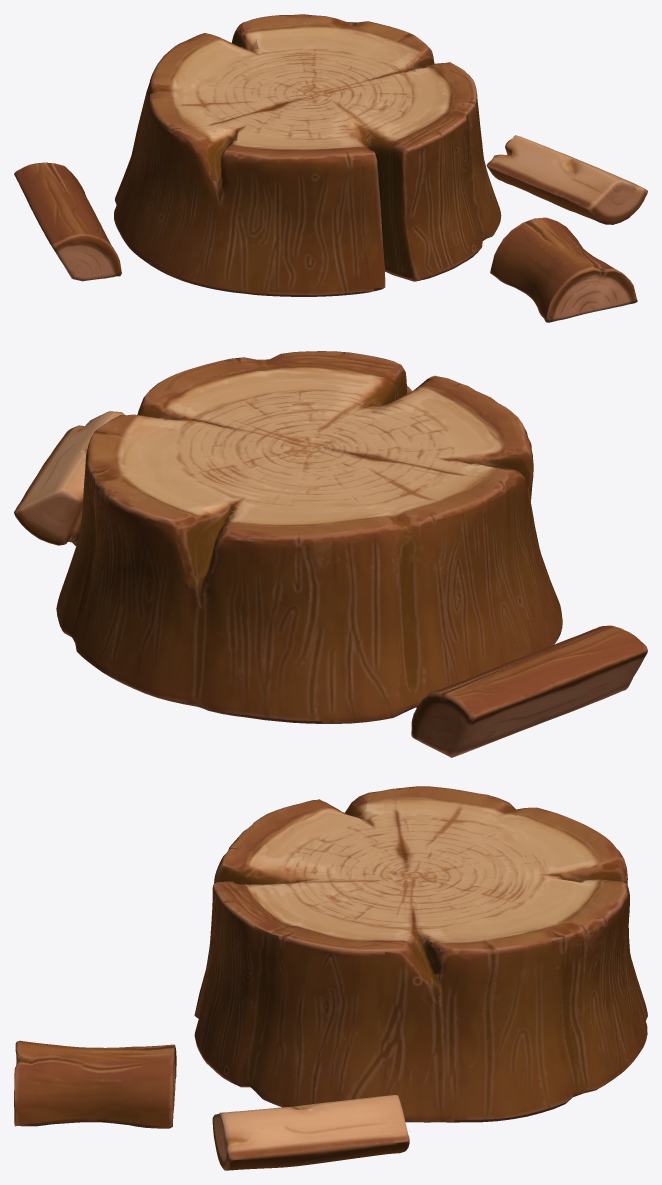
Rendered from Stump.fbx.
The picture shows the model from 3 angles, top to bottom: view 1: azimuth 30°, elevation 25°; view 2: azimuth 150°, elevation 25°; view 3: azimuth 270°, elevation 25°; orthographic projection. The views are drawn at different scales.
Visible parts, largest first — view 1: 3-_Stump_low_lambert1, 2-_WoodLog01_low_lamb; view 2: 3-_Stump_low_lambert1, 2-_WoodLog01_low_lamb; view 3: 3-_Stump_low_lambert1, 2-_WoodLog01_low_lamb.
Part boxes in pixels (left/top/right/bottom): 3-_Stump_low_lambert1: left=114, top=14, right=501, bottom=296; 2-_WoodLog01_low_lamb: left=14, top=135, right=647, bottom=322; 3-_Stump_low_lambert1: left=56, top=351, right=562, bottom=723; 2-_WoodLog01_low_lamb: left=14, top=386, right=647, bottom=757; 3-_Stump_low_lambert1: left=194, top=786, right=647, bottom=1122; 2-_WoodLog01_low_lamb: left=14, top=1040, right=409, bottom=1170.
Bounding box in the file's own units: 436 × 108 × 380.
2 materials, 2 textured.
